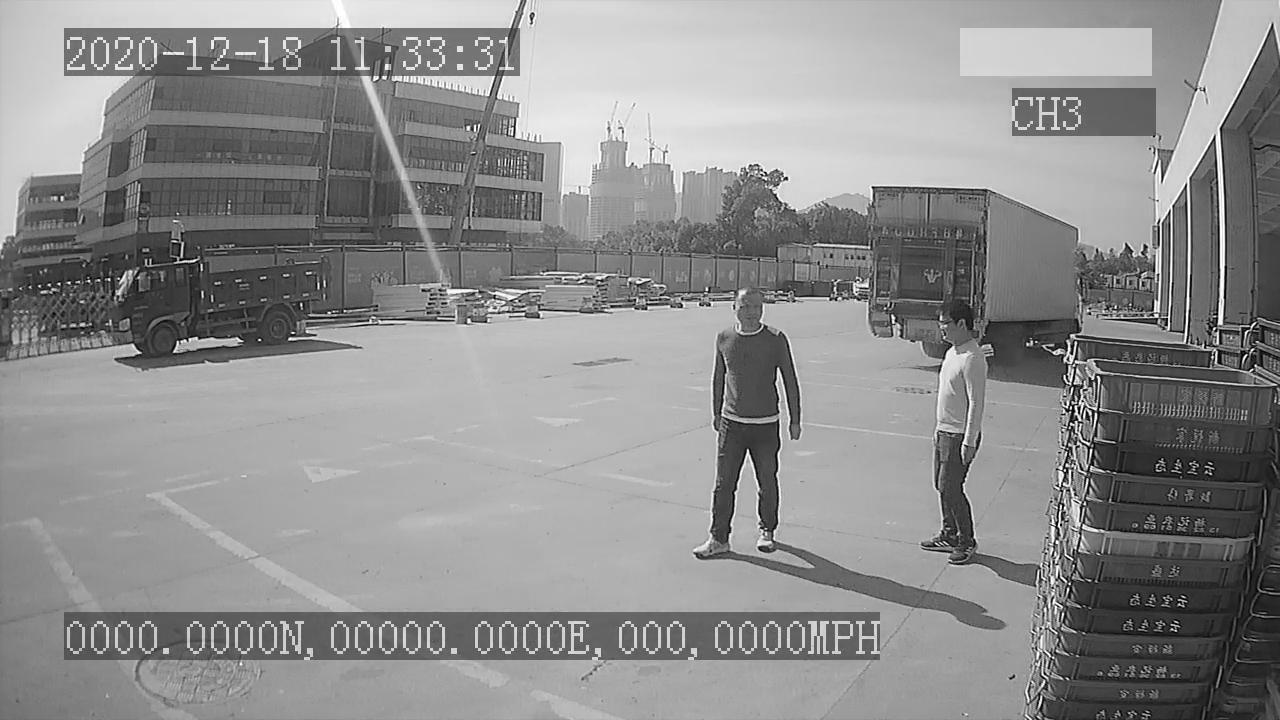person: (691, 285, 803, 564)
